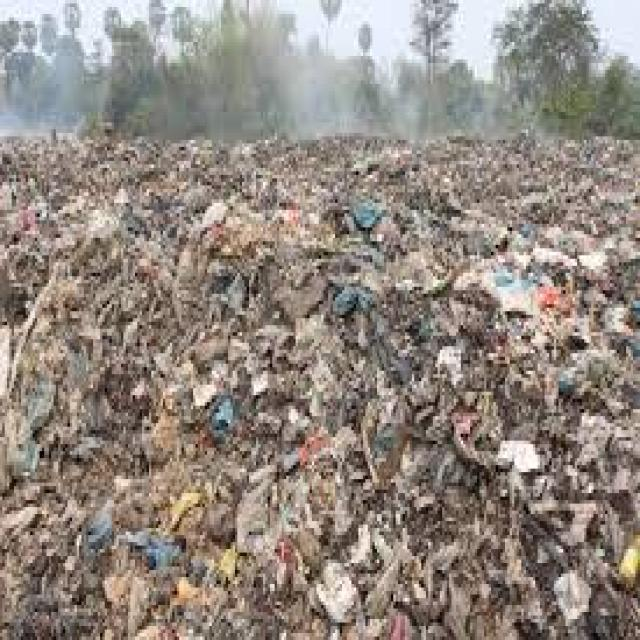Smoke: (0, 0, 516, 143)
